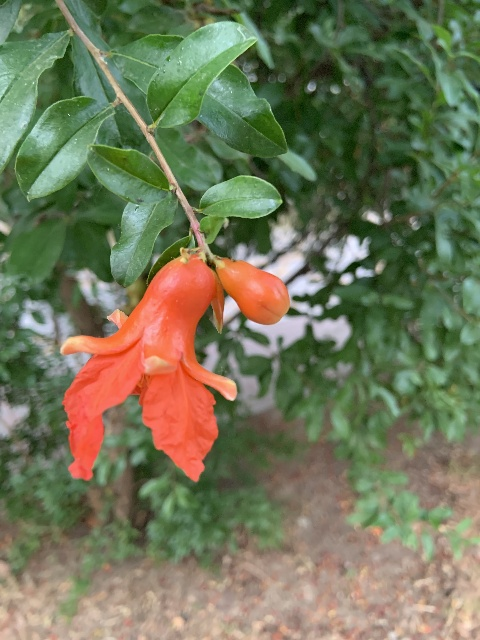bud: (215, 259, 290, 327)
flower: (60, 255, 236, 484)
